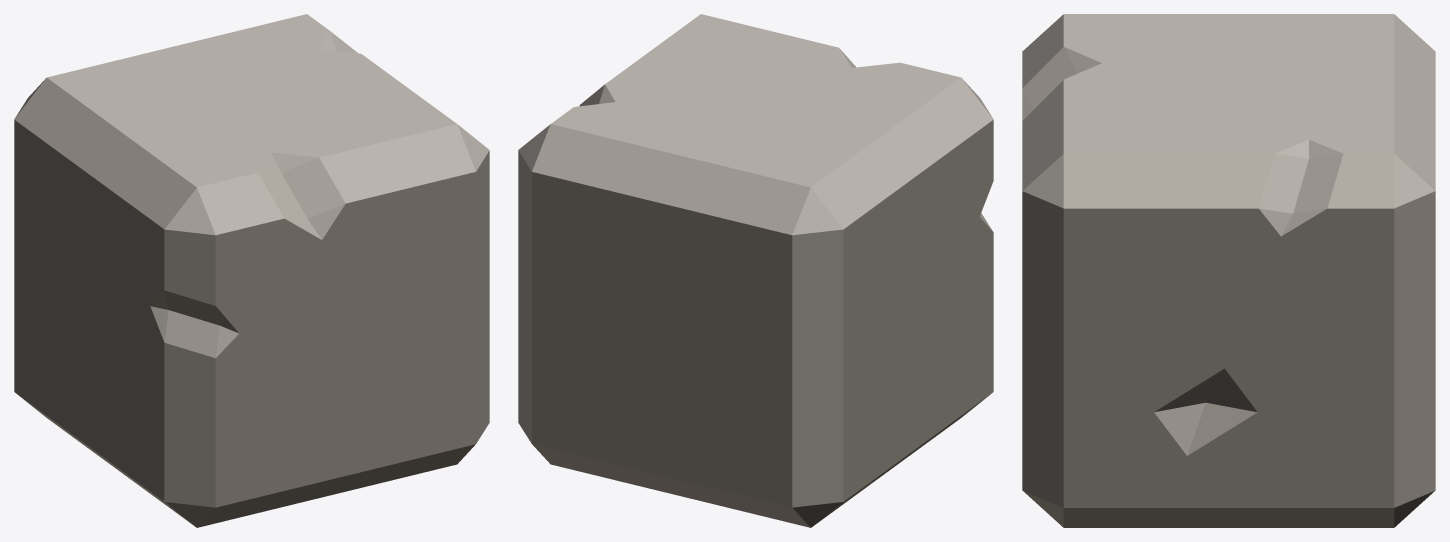
Rendered from m_kub_stone_miniCube.FBX.
3 views of the same model, side by side, from view 1: azimuth 30°, elevation 25°; view 2: azimuth 150°, elevation 25°; view 3: azimuth 270°, elevation 25° (orthographic). The views are drawn at different scales.
Parts seen in each view (by area): view 1: m_kub_stone_miniCube; view 2: m_kub_stone_miniCube; view 3: m_kub_stone_miniCube.
Boxes of the visible parts, <box> form: m_kub_stone_miniCube: <box>14,14,489,527</box>; m_kub_stone_miniCube: <box>518,14,993,527</box>; m_kub_stone_miniCube: <box>1022,14,1435,527</box>.
Size of the model in its own units: 1 by 1 by 1.
